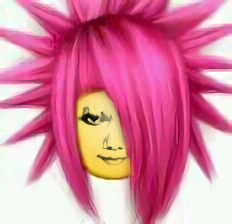dragon: (80, 108, 127, 170)
